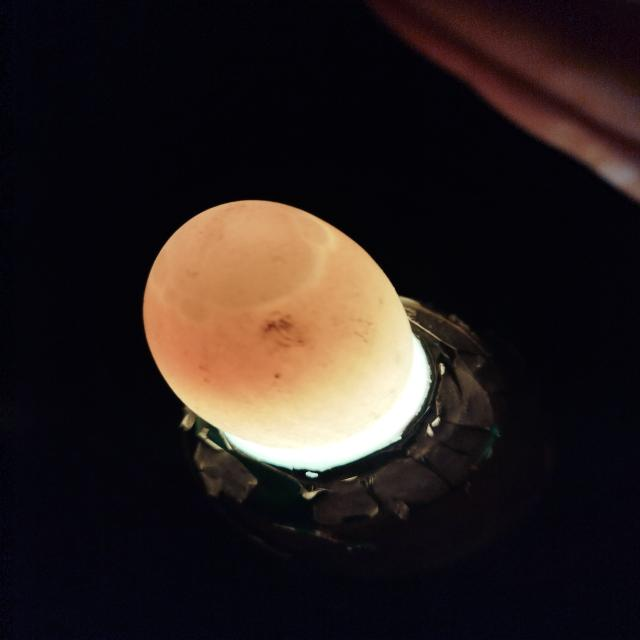Camara de Ar: (148, 200, 334, 323)
